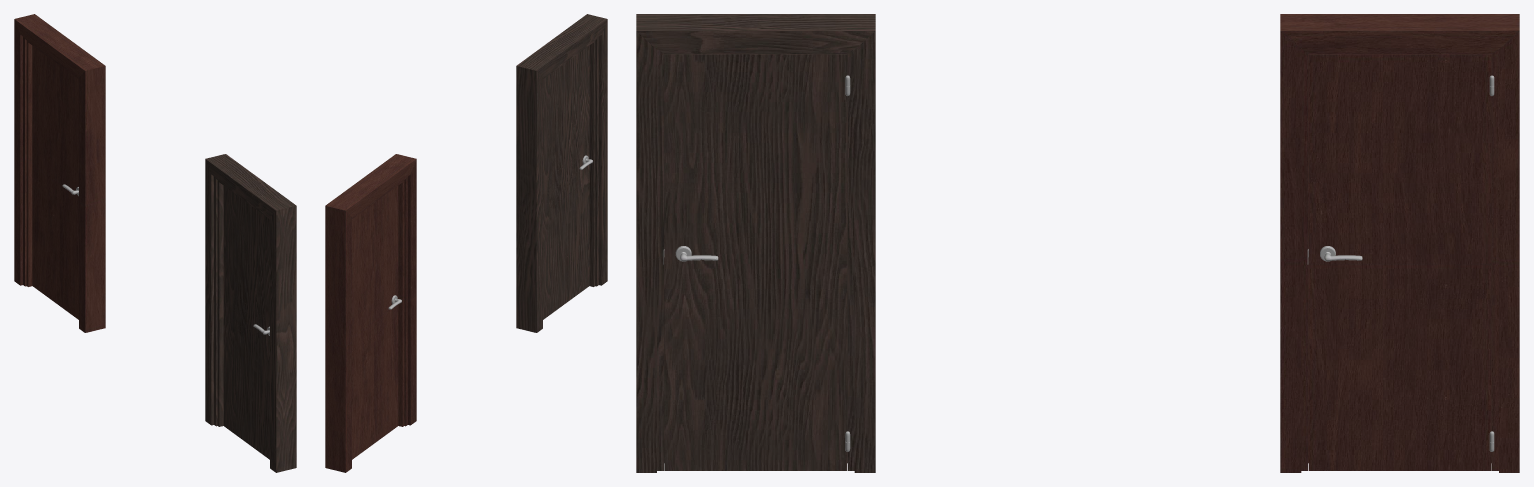
Rendered from doors.glb.
The picture shows the model from 3 angles, left to right: view 1: azimuth 30°, elevation 25°; view 2: azimuth 150°, elevation 25°; view 3: azimuth 270°, elevation 25°; orthographic projection. The views are drawn at different scales.
Visible parts, largest first — view 1: D1-Frame, D2-Frame, D2-Door, D1-Door; view 2: D2-Frame, D1-Frame, D1-Door, D2-Door; view 3: D2-Door, D1-Door, D2-Frame, D1-Frame.
Boxes of the visible parts, box(x1,y1,x2,y2) form: D1-Frame: box(205, 154, 296, 472); D2-Frame: box(14, 14, 105, 332); D2-Door: box(32, 45, 78, 319); D1-Door: box(223, 186, 269, 459); D2-Frame: box(325, 154, 416, 472); D1-Frame: box(516, 14, 607, 332); D1-Door: box(543, 45, 592, 319); D2-Door: box(352, 186, 401, 459); D2-Door: box(1308, 54, 1494, 470); D1-Door: box(664, 54, 850, 470); D2-Frame: box(1280, 14, 1519, 472); D1-Frame: box(636, 14, 875, 472).
Size of the model in its own units: 0.561 by 5.3 by 9.6.
Materials: 2 (2 with a texture image).
